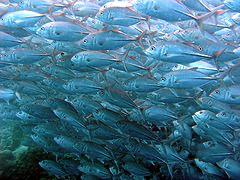Carangidae -Jacks-: (141, 37, 222, 69), (123, 136, 179, 175), (33, 17, 97, 44), (160, 64, 226, 90), (49, 105, 96, 140), (91, 3, 152, 29), (59, 75, 116, 98), (70, 48, 130, 65), (35, 154, 70, 178), (19, 100, 60, 120)
